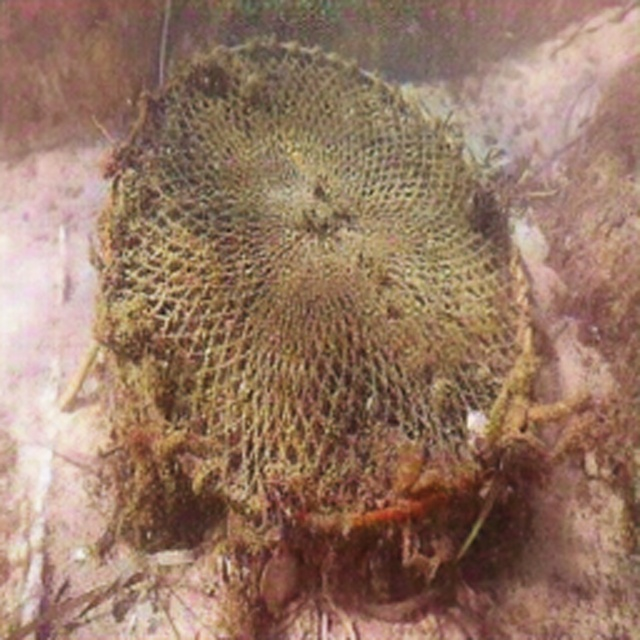mine: (102, 36, 533, 588)
